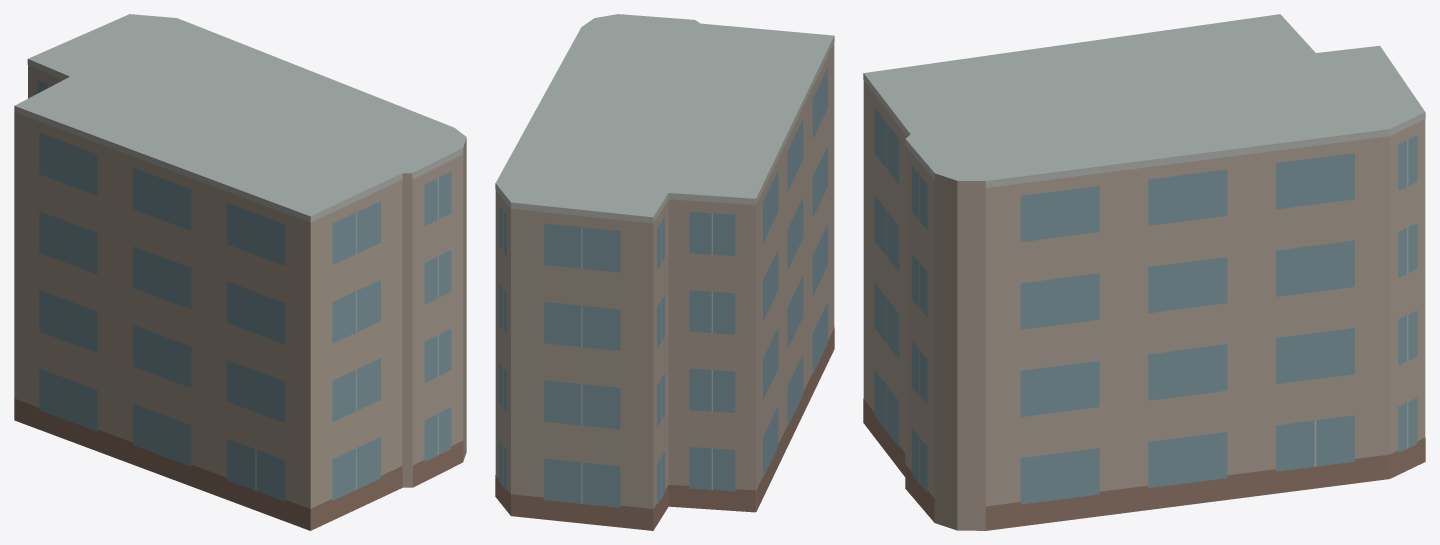
The model's file is survey-upis-32838350.glb.
3 views of the same model, side by side, from view 1: azimuth 30°, elevation 25°; view 2: azimuth 150°, elevation 25°; view 3: azimuth 270°, elevation 25° (orthographic). The views are drawn at different scales.
Parts seen in each view (by area): view 1: survey-upis-32838350.tmp; view 2: survey-upis-32838350.tmp; view 3: survey-upis-32838350.tmp.
Boxes of the visible parts, box(x1,y1,x2,y2) form: survey-upis-32838350.tmp: box(14, 14, 466, 530); survey-upis-32838350.tmp: box(495, 14, 834, 530); survey-upis-32838350.tmp: box(863, 14, 1425, 530).
Bounding box in the file's own units: 12.51 × 12.2 × 17.77.
